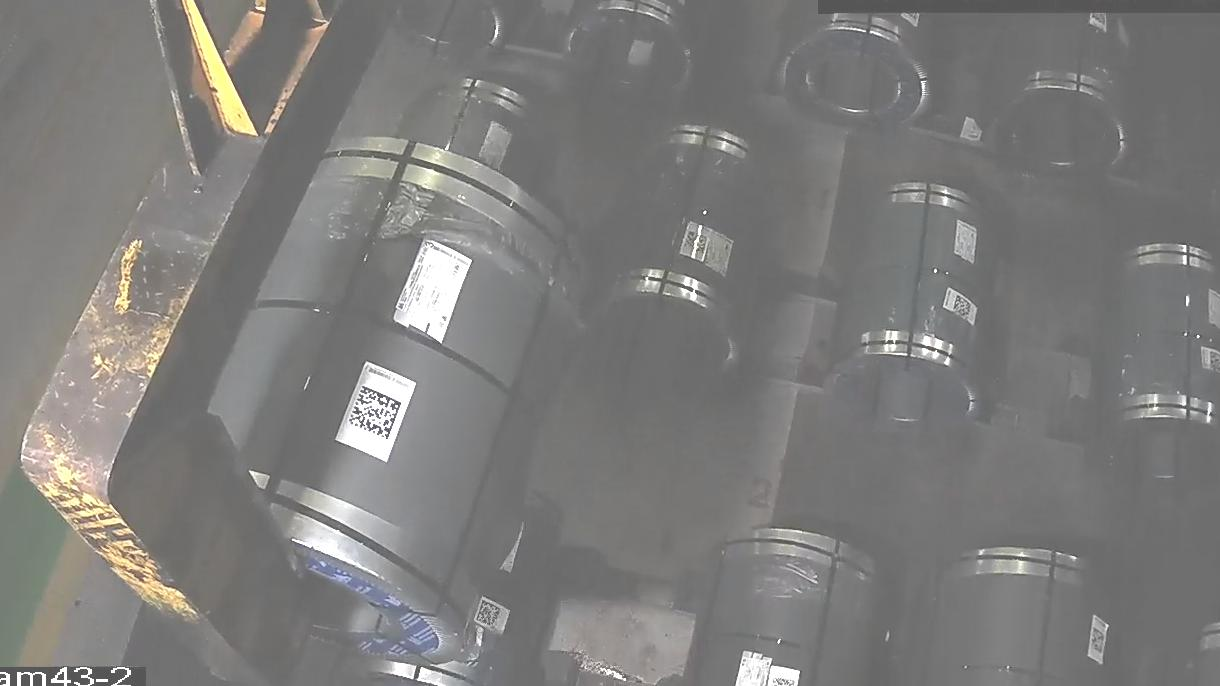data matrix: (347, 383, 405, 443), (474, 596, 507, 634), (682, 228, 711, 257), (1089, 624, 1109, 657), (952, 294, 975, 321), (1208, 351, 1220, 378)
